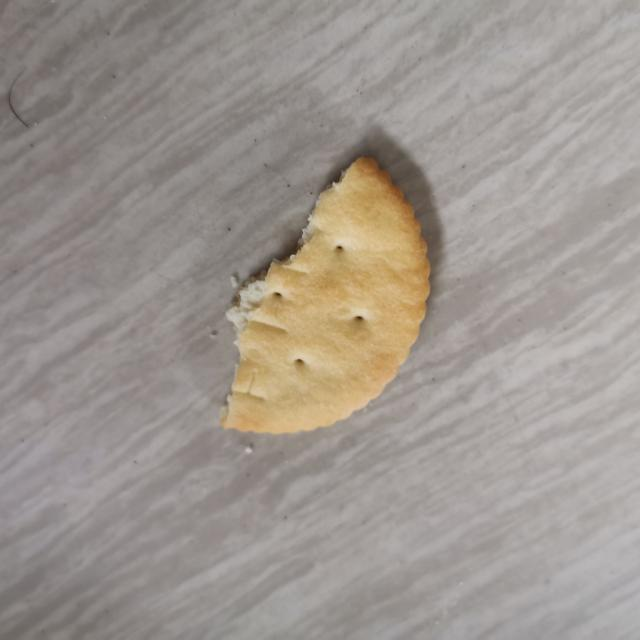Broken: (219, 155, 432, 435)
